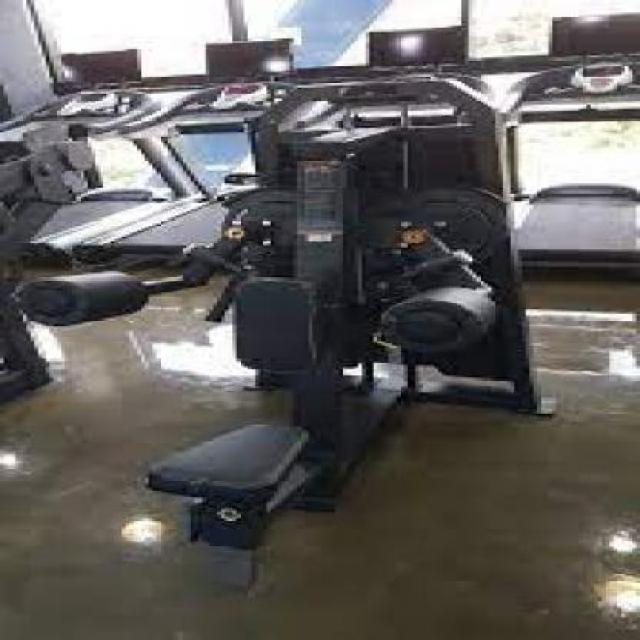lateral raises machine: (20, 238, 569, 592)
